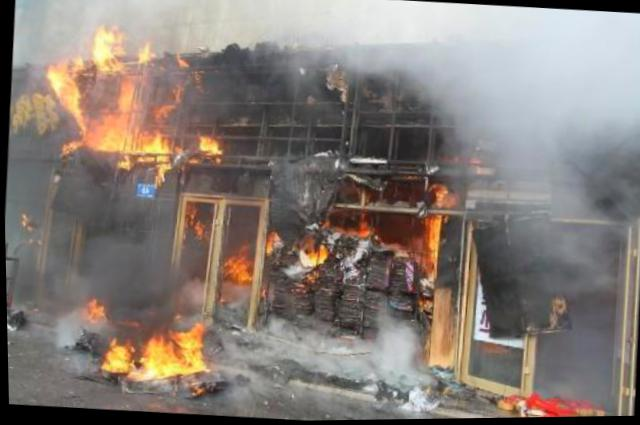fire: (85, 111, 138, 149), (142, 335, 181, 379), (92, 22, 125, 71), (176, 324, 206, 372), (225, 244, 256, 283), (103, 336, 136, 371), (139, 129, 179, 152), (80, 296, 110, 326), (427, 214, 443, 270), (50, 56, 76, 90), (432, 183, 463, 208), (59, 80, 85, 107), (117, 75, 136, 110), (309, 242, 330, 264), (155, 161, 173, 186), (202, 135, 224, 154), (139, 41, 156, 63), (266, 228, 280, 252), (61, 139, 82, 152), (357, 221, 374, 236), (118, 152, 133, 169), (74, 108, 86, 124)
